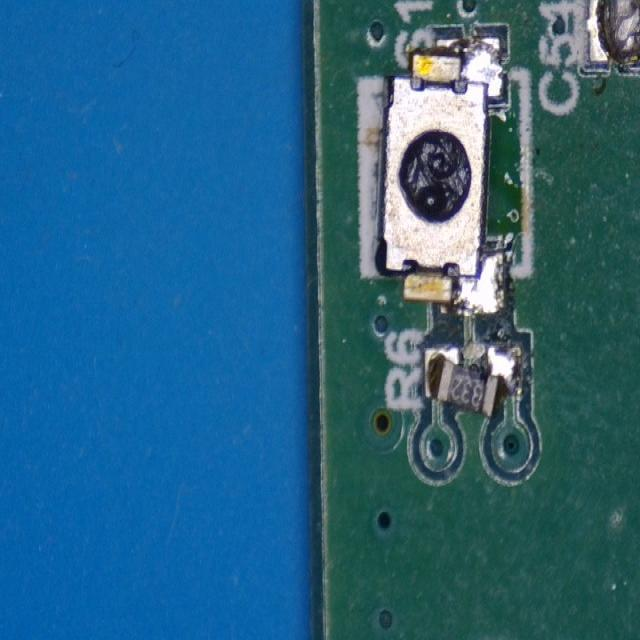Incorrect_installation: (373, 38, 504, 314), (425, 347, 522, 419)
